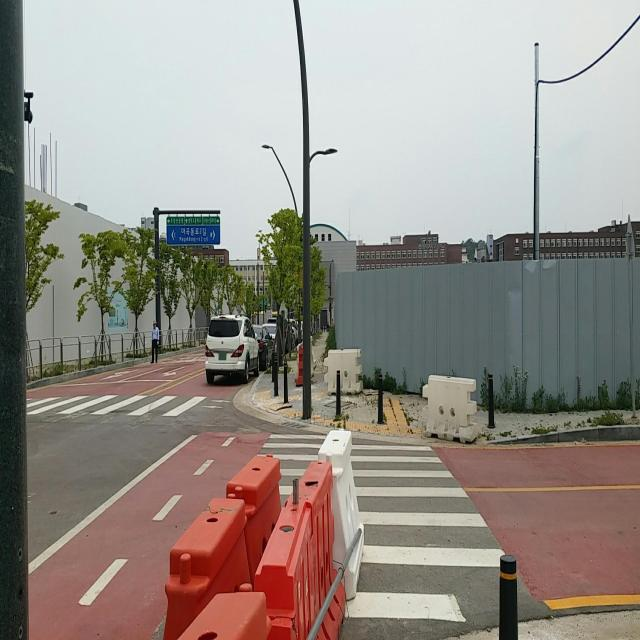횡단보도: (255, 430, 507, 624), (27, 396, 232, 422)
